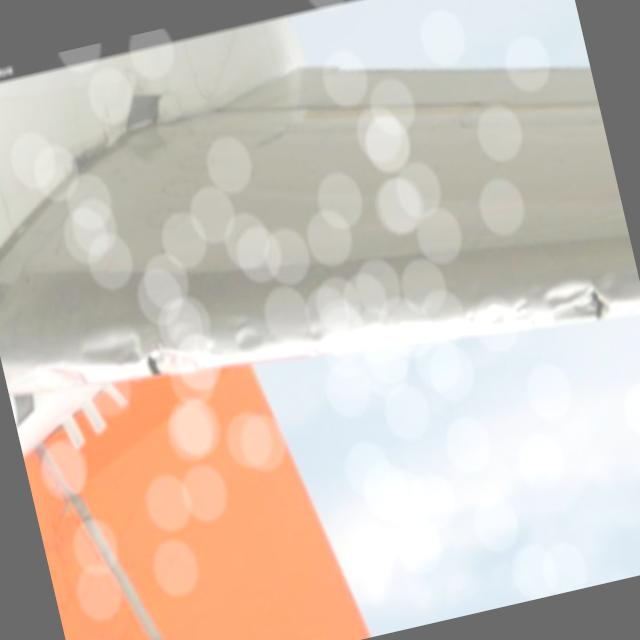dent: (538, 270, 614, 334), (75, 322, 146, 380), (6, 356, 82, 396), (142, 339, 202, 384), (224, 313, 266, 358)
